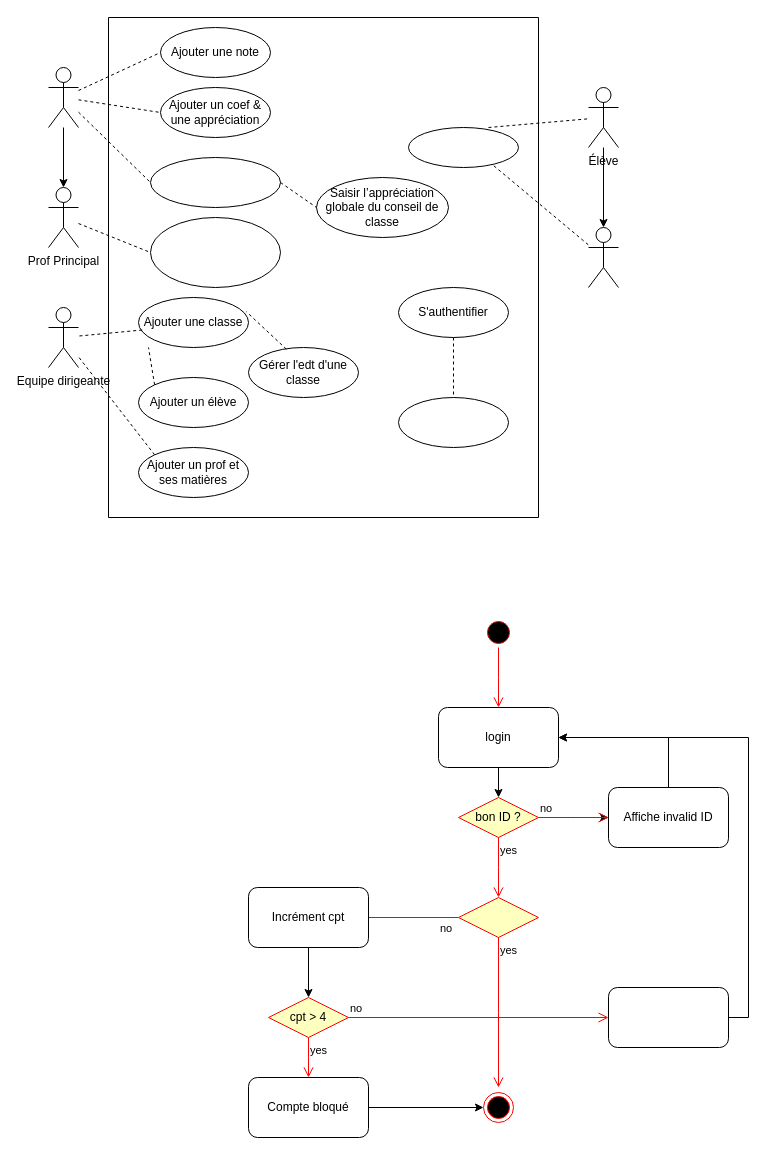
Image size: 774x1155. Some labels were removed from this diagram. Here are the shapes that lost their labels. From the top down, the centre of each, then its label:
At pixel 63 97: "Professeur".
At pixel 463 147: "Exporter bulletin PDF".
At pixel 215 182: "Sasir l'appréciation du conseil de classe".
At pixel 215 252: "Modifier le/la professeur(e) associée à un cours en cas d’absence".
At pixel 603 257: "Parent".
At pixel 453 422: "Tdb".
At pixel 498 917: "Mdp valide?".
At pixel 668 1017: "Affiche invalid MDP".
